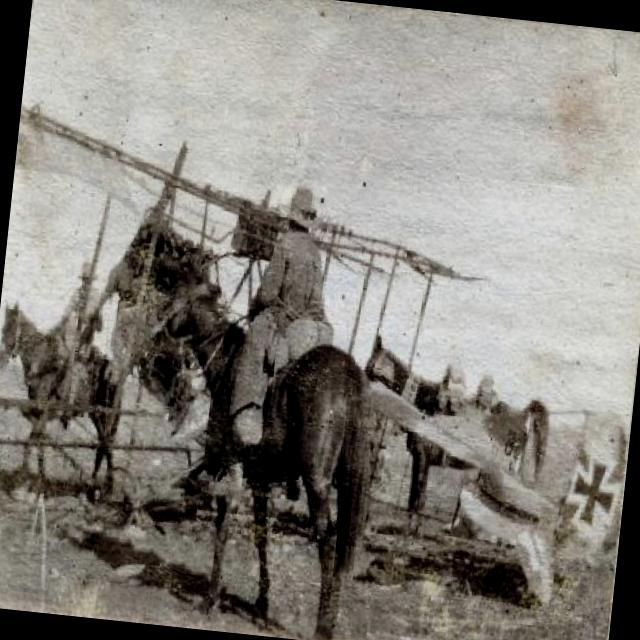Person: (201, 183, 333, 508), (46, 256, 114, 417)
